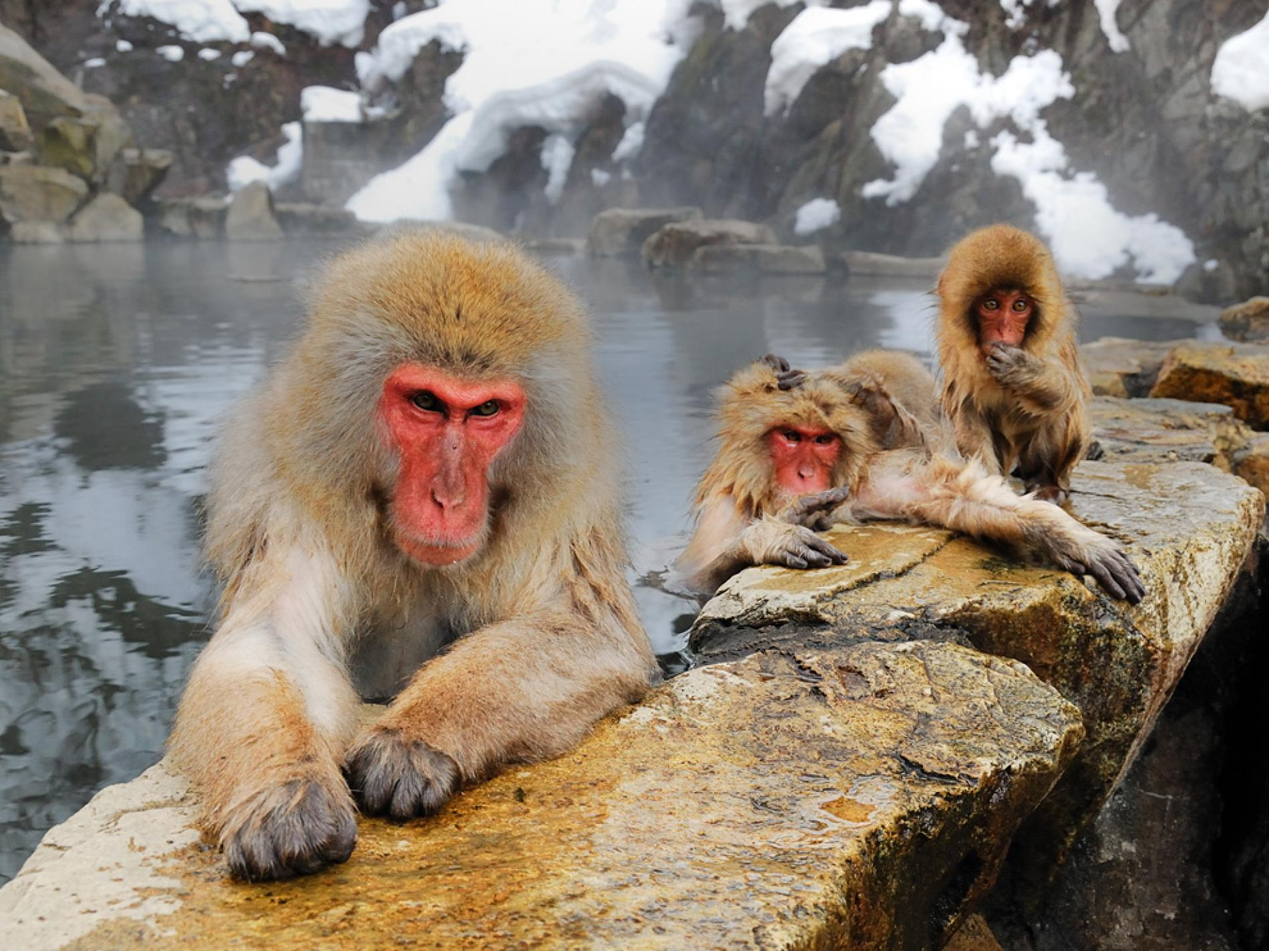monkey: (681, 242, 1143, 609)
